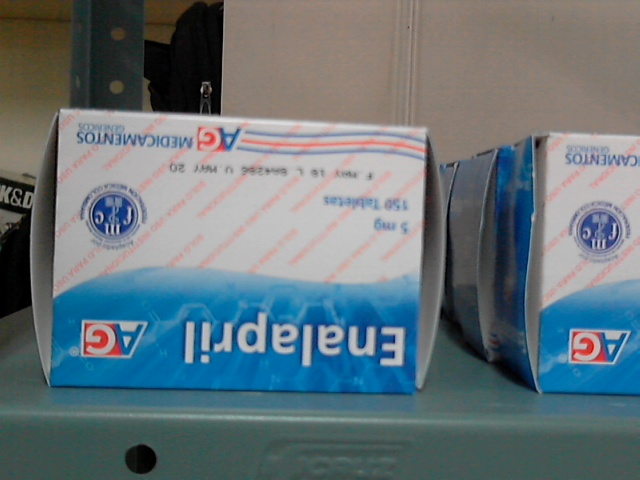AG: (57, 112, 415, 390)
